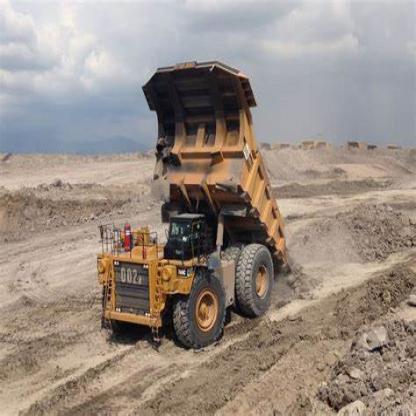dump_truck: (87, 43, 302, 354)
